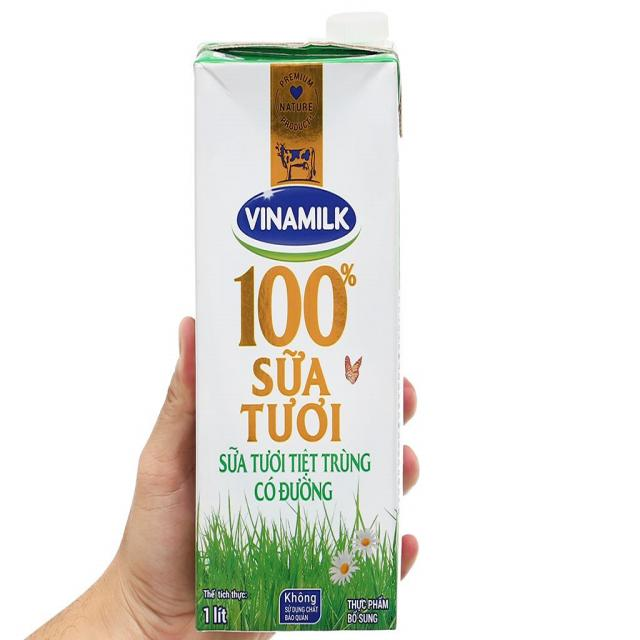non_white_jug: (186, 6, 412, 640)
